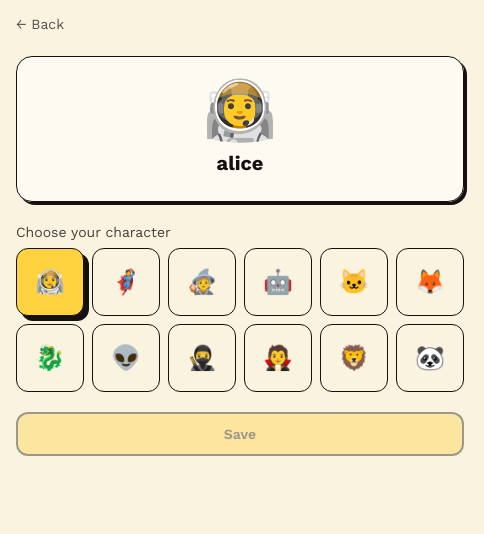
ProfilePage › shows an error if saving fails
This screenshot has width=484, height=534.
Click the button named "Robot".
click(278, 282)  # box [244,248,312,316]
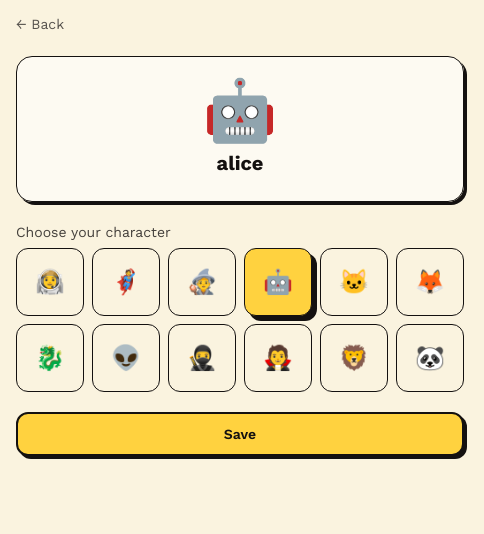
Click the button "Save".
click(240, 434)  # box [16,412,464,456]
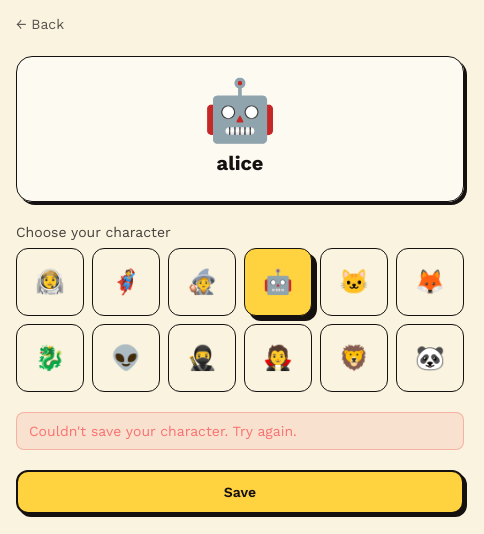
expect the text "Couldn't save your character. Try again." is shown: met, box [16,412,464,450]
